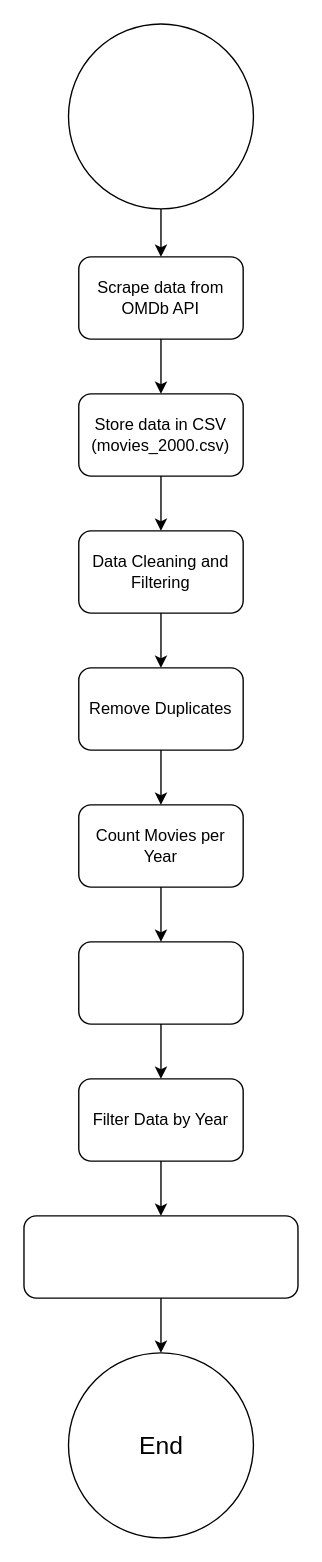
This 322x1562 diagram has some shape labels left out. The centre of each missing label's shape, as x and y in pixels:
"Find Year with Most Releases" belongs at (x=160, y=982).
"Mulai" belongs at (x=160, y=116).
"Save Filtered Data to CSV (filtered_movies_by_years.csv)" belongs at (x=160, y=1256).
